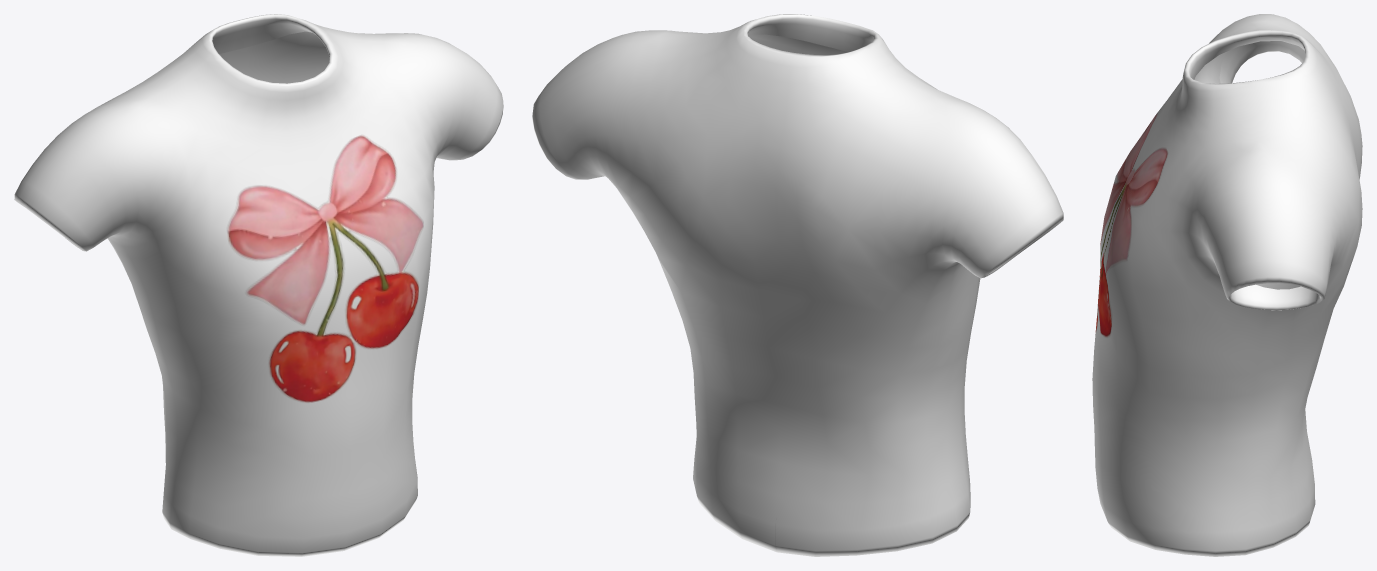
File: Basic Tee1 Catalog_Model.fbx
The picture shows the model from 3 angles, left to right: view 1: azimuth 30°, elevation 25°; view 2: azimuth 150°, elevation 25°; view 3: azimuth 270°, elevation 25°; orthographic projection. The views are drawn at different scales.
Visible parts, largest first — view 1: Basic Tee1; view 2: Basic Tee1; view 3: Basic Tee1.
Part boxes in pixels (box(x1,y1,x2,y2)): Basic Tee1: box(14, 14, 503, 556); Basic Tee1: box(532, 14, 1063, 556); Basic Tee1: box(1092, 14, 1362, 556).
Size of the model in its own units: 939 by 871 by 463.
Materials: 1 (1 with a texture image).
